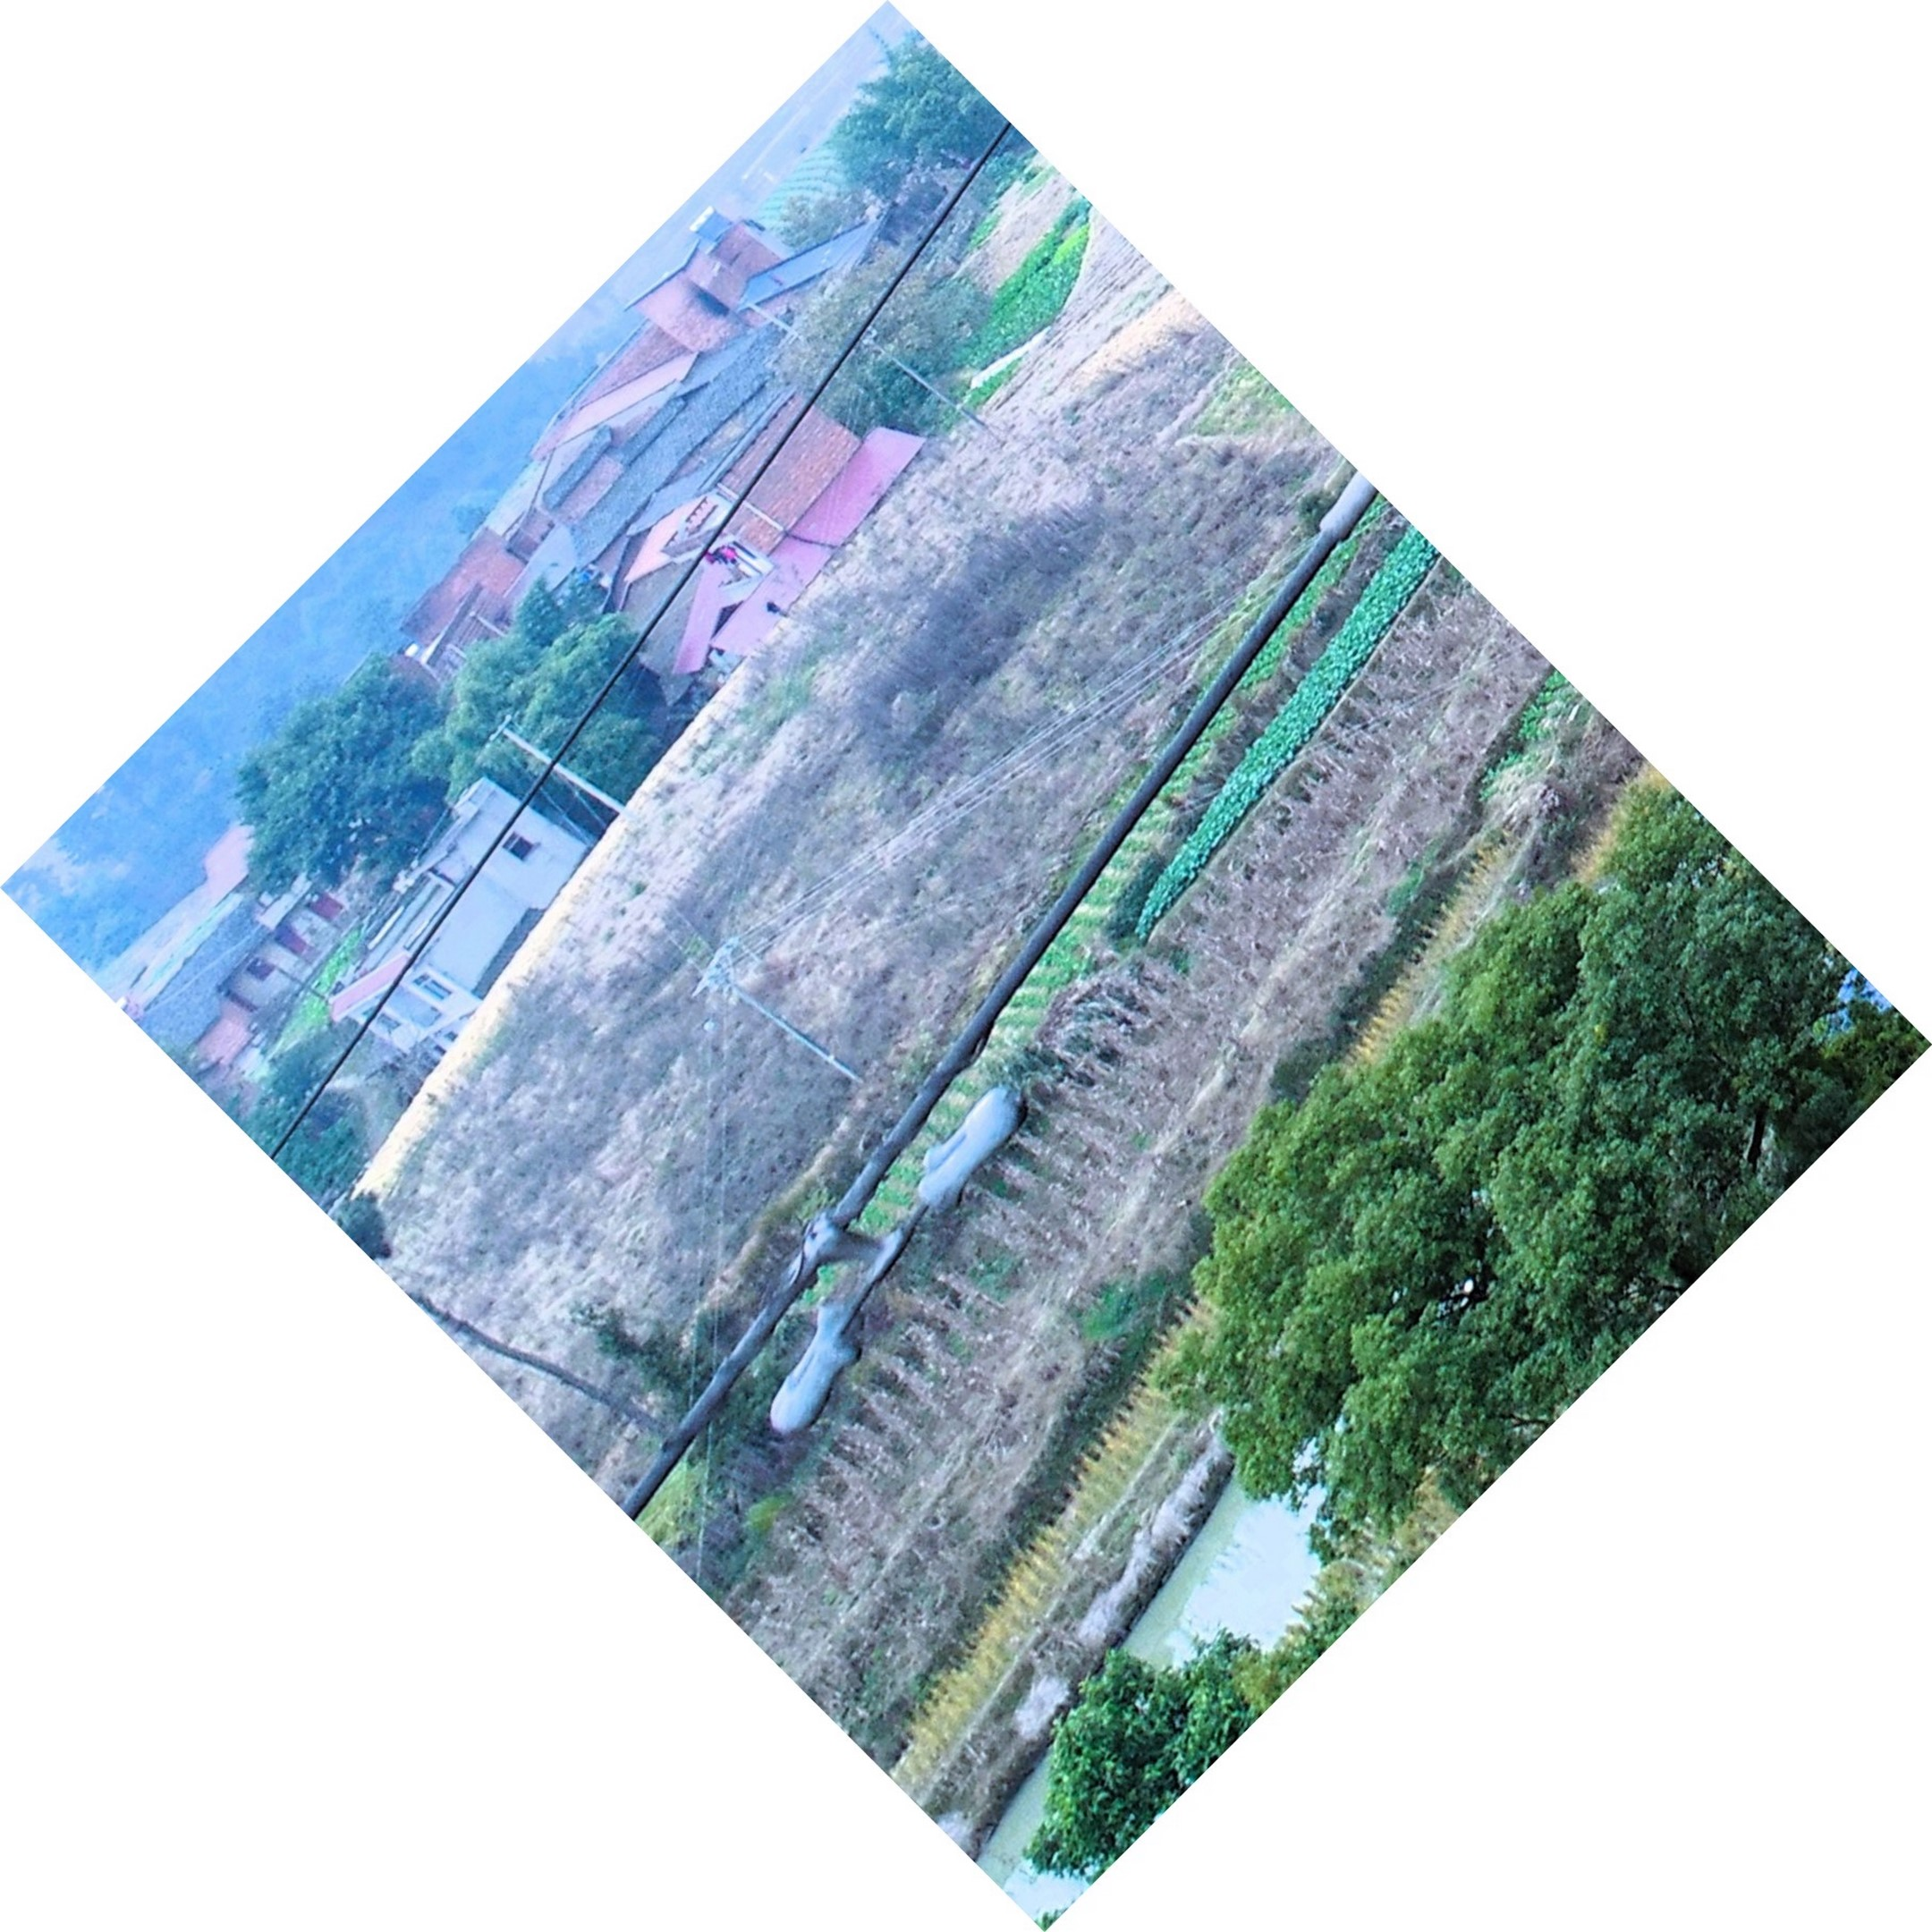Shockproof hammer: (752, 1028, 1053, 1470)
